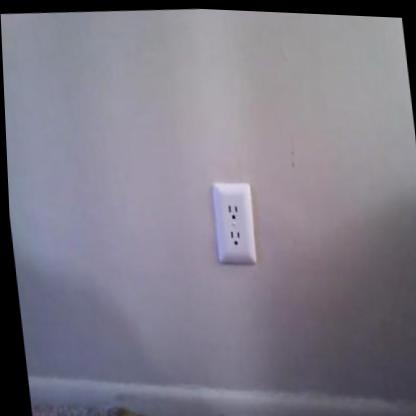OUTLET: (209, 178, 261, 269)
